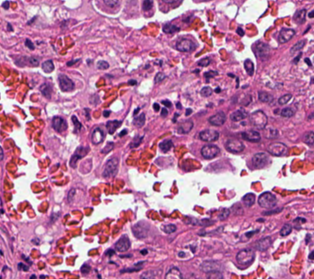nucleus: (69, 145, 88, 167), (102, 156, 118, 177), (236, 248, 254, 266), (250, 110, 267, 128), (131, 221, 149, 238), (258, 192, 276, 208), (254, 41, 269, 60), (120, 261, 145, 272), (252, 152, 268, 168), (58, 74, 73, 91), (201, 144, 219, 158), (176, 38, 195, 51), (268, 142, 287, 155), (115, 235, 130, 251), (208, 111, 225, 125), (225, 139, 243, 152), (199, 129, 218, 141), (176, 120, 193, 133), (240, 130, 260, 141), (52, 116, 66, 131), (256, 236, 271, 250), (200, 261, 219, 272), (91, 128, 104, 144), (230, 109, 247, 121), (106, 120, 121, 133), (165, 267, 182, 278), (71, 115, 81, 133), (159, 139, 172, 152), (242, 193, 254, 206), (40, 83, 51, 97), (258, 91, 272, 102), (133, 113, 144, 127), (206, 269, 222, 278), (244, 59, 253, 74), (42, 60, 53, 72), (130, 136, 142, 147), (101, 142, 113, 153), (162, 224, 176, 233), (265, 128, 277, 138), (219, 208, 229, 220), (140, 270, 155, 278), (197, 57, 210, 66), (67, 188, 75, 202), (154, 72, 165, 82), (200, 86, 211, 96), (263, 208, 280, 214), (80, 264, 90, 274), (97, 60, 108, 69), (66, 59, 79, 66), (198, 219, 213, 225), (204, 71, 216, 78), (25, 39, 33, 49), (17, 263, 28, 270), (22, 255, 31, 263), (161, 100, 171, 107), (50, 213, 58, 221), (119, 129, 127, 136), (84, 108, 89, 119), (245, 231, 254, 237), (105, 249, 114, 255), (161, 108, 167, 116), (173, 113, 178, 122), (153, 103, 159, 110), (133, 107, 139, 114), (185, 108, 191, 115), (103, 110, 110, 116), (32, 238, 39, 244), (140, 249, 147, 254), (120, 254, 131, 257), (128, 80, 136, 84), (176, 102, 181, 108), (178, 251, 184, 256), (215, 87, 220, 92), (0, 147, 2, 159), (30, 275, 35, 277)
